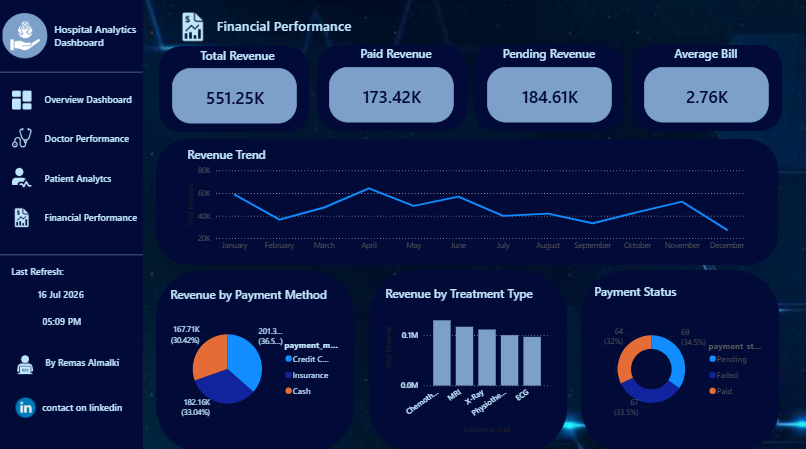

This screenshot's page, from the dashboard's own definition file:
{"tool":"powerbi","page":{"name":"Financial Performance","canvas":[1280,720],"ordinal":3},"visuals":[{"type":"shape","box":[0,0,226.8,720.6],"z":0},{"type":"shape","box":[251.7,74.1,238.3,136.7],"z":0,"group":"g4"},{"type":"actionButton","box":[66.2,133.9,159.8,50.4],"z":0,"group":"g1"},{"type":"cardVisual","fields":{"Data":["Measures1.Refresh Date"]},"box":[30,437.1,165.7,58.6],"z":0,"group":"g2"},{"type":"image","box":[20,562.5,39.2,38.3],"z":0,"group":"g3"},{"type":"cardVisual","fields":{"Data":["Measures1.Total Revenue"]},"box":[271.7,109.1,198.3,88.3],"z":1000,"group":"g4"},{"type":"group","id":"g1","title":"Group 1","box":[19.1,133.9,207.3,239.4],"z":1000},{"type":"image","box":[19.5,144.4,30.6,31.7],"z":1000,"group":"g1"},{"type":"textbox","box":[12.9,417.1,100,38.6],"z":1000,"group":"g2"},{"type":"textbox","box":[65.8,562.5,143.3,38.3],"z":1000,"group":"g3"},{"type":"image","box":[0,21.6,80.6,72],"z":2000},{"type":"shape","box":[1001.7,72.5,238.3,136.7],"z":2000,"group":"g4"},{"type":"image","box":[19.1,202.7,30.9,36.4],"z":2000,"group":"g1"},{"type":"cardVisual","fields":{"Data":["Measures1.Refresh Time"]},"box":[50,480,105.7,55.7],"z":2000,"group":"g2"},{"type":"actionButton","box":[20,629.2,186.7,40],"z":2000,"group":"g3"},{"type":"textbox","box":[80.6,31.7,145.4,86.4],"z":3000},{"type":"shape","box":[751.7,72.5,238.3,136.7],"z":3000,"group":"g4"},{"type":"actionButton","box":[66.4,195.4,160,50.9],"z":3000,"group":"g1"},{"type":"shape","box":[0,57.6,226.1,118.1],"z":4000},{"type":"shape","box":[501.7,72.5,238.3,136.7],"z":4000,"group":"g4"},{"type":"image","box":[19.3,266,30.7,36.7],"z":4000,"group":"g1"},{"type":"textbox","box":[312.8,70.4,143.3,51.7],"z":5000,"group":"g4"},{"type":"actionButton","box":[66,258.6,160,51.3],"z":5000,"group":"g1"},{"type":"group","id":"g2","title":"Group 2","box":[12.9,417.1,182.9,118.6],"z":5000},{"type":"cardVisual","fields":{"Data":["Measures1.Paid Revenue"]},"box":[521.7,107.5,198.3,88.3],"z":6000,"group":"g4"},{"type":"actionButton","box":[66,322,160,51.3],"z":6000,"group":"g1"},{"type":"shape","box":[0,348.3,226.7,116.7],"z":6000},{"type":"image","box":[19.3,329.3,30.7,36.7],"z":7000,"group":"g1"},{"type":"group","id":"g3","title":"Group 3","box":[20,562.5,189.2,106.7],"z":7000},{"type":"group","id":"g4","title":"Group 4","box":[251.7,67.9,988.3,142.9],"z":8000},{"type":"cardVisual","fields":{"Data":["Measures1.Pending Revenue"]},"box":[771.7,107.5,198.3,88.3],"z":8000,"group":"g4"},{"type":"textbox","box":[1025.3,67.7,190.1,40.3],"z":9000},{"type":"textbox","box":[531.1,68.4,193.3,46.7],"z":9000,"group":"g4"},{"type":"shape","box":[248.3,221.7,988.3,200],"z":9000,"group":"g5"},{"type":"image","box":[281.1,21.1,50,46.7],"z":10000},{"type":"cardVisual","fields":{"Data":["Measures1.Average Bill"]},"box":[1021.7,107.5,198.3,88.3],"z":10000,"group":"g4"},{"type":"lineChart","title":"Revenue Trend","fields":{"Category":["Dim_Calendar.Month Name"],"Y":["Measures1.Total Revenue"]},"box":[293.3,233.4,898.3,176.7],"z":10000,"group":"g5"},{"type":"textbox","box":[331.7,21.7,238.3,46.7],"z":11000},{"type":"textbox","box":[774.9,67.9,190.1,40.3],"z":11000,"group":"g4"},{"type":"group","id":"g5","title":"Group 5","box":[248.3,221.7,988.3,200],"z":12000},{"type":"shape","box":[248.3,430,315,290],"z":13000},{"type":"pieChart","title":"Revenue by Payment Method","fields":{"Category":["Fact_Billing.payment_method"],"Y":["Measures1.Total Revenue"]},"box":[265,455,281.7,238.3],"z":14000},{"type":"shape","box":[585,430,315,290],"z":15000},{"type":"clusteredColumnChart","title":"Revenue by Treatment Type","fields":{"Category":["Fact_Treatments.treatment_type"],"Y":["Measures1.Total Revenue"]},"box":[606.9,453.4,272.4,239.7],"z":16000},{"type":"shape","box":[921.7,430,315,290],"z":17000},{"type":"donutChart","title":"Payment Status","fields":{"Category":["Fact_Billing.payment_status"],"Y":["CountNonNull(Fact_Billing.bill_id)"]},"box":[938.3,450,281.7,248.3],"z":18000}]}

Visuals, with their boxes in screenshot pixels (x1, y1, x2, y2), scaled from the page's 1280x720 canvas onto the 806x449 screenshot:
shape: {"x1": 0, "y1": 0, "x2": 143, "y2": 448}
shape: {"x1": 158, "y1": 46, "x2": 309, "y2": 131}
actionButton: {"x1": 42, "y1": 84, "x2": 142, "y2": 115}
cardVisual - Measures1.Refresh Date: {"x1": 19, "y1": 273, "x2": 123, "y2": 309}
image: {"x1": 13, "y1": 351, "x2": 37, "y2": 375}
cardVisual - Measures1.Total Revenue: {"x1": 171, "y1": 68, "x2": 296, "y2": 123}
"Group 1" group: {"x1": 12, "y1": 84, "x2": 143, "y2": 233}
image: {"x1": 12, "y1": 90, "x2": 32, "y2": 110}
textbox: {"x1": 8, "y1": 260, "x2": 71, "y2": 284}
textbox: {"x1": 41, "y1": 351, "x2": 132, "y2": 375}
image: {"x1": 0, "y1": 13, "x2": 51, "y2": 58}
shape: {"x1": 631, "y1": 45, "x2": 781, "y2": 130}
image: {"x1": 12, "y1": 126, "x2": 31, "y2": 149}
cardVisual - Measures1.Refresh Time: {"x1": 31, "y1": 299, "x2": 98, "y2": 334}
actionButton: {"x1": 13, "y1": 392, "x2": 130, "y2": 417}
textbox: {"x1": 51, "y1": 20, "x2": 142, "y2": 74}
shape: {"x1": 473, "y1": 45, "x2": 623, "y2": 130}
actionButton: {"x1": 42, "y1": 122, "x2": 143, "y2": 154}
shape: {"x1": 0, "y1": 36, "x2": 142, "y2": 110}
shape: {"x1": 316, "y1": 45, "x2": 466, "y2": 130}
image: {"x1": 12, "y1": 166, "x2": 31, "y2": 189}
textbox: {"x1": 197, "y1": 44, "x2": 287, "y2": 76}
actionButton: {"x1": 42, "y1": 161, "x2": 142, "y2": 193}
"Group 2" group: {"x1": 8, "y1": 260, "x2": 123, "y2": 334}
cardVisual - Measures1.Paid Revenue: {"x1": 329, "y1": 67, "x2": 453, "y2": 122}
actionButton: {"x1": 42, "y1": 201, "x2": 142, "y2": 233}
shape: {"x1": 0, "y1": 217, "x2": 143, "y2": 290}
image: {"x1": 12, "y1": 205, "x2": 31, "y2": 228}
"Group 3" group: {"x1": 13, "y1": 351, "x2": 132, "y2": 417}
"Group 4" group: {"x1": 158, "y1": 42, "x2": 781, "y2": 131}
cardVisual - Measures1.Pending Revenue: {"x1": 486, "y1": 67, "x2": 611, "y2": 122}
textbox: {"x1": 646, "y1": 42, "x2": 765, "y2": 67}
textbox: {"x1": 334, "y1": 43, "x2": 456, "y2": 72}
shape: {"x1": 156, "y1": 138, "x2": 779, "y2": 263}
image: {"x1": 177, "y1": 13, "x2": 208, "y2": 42}
cardVisual - Measures1.Average Bill: {"x1": 643, "y1": 67, "x2": 768, "y2": 122}
"Revenue Trend" lineChart: {"x1": 185, "y1": 146, "x2": 750, "y2": 256}
textbox: {"x1": 209, "y1": 14, "x2": 359, "y2": 43}
textbox: {"x1": 488, "y1": 42, "x2": 608, "y2": 67}
"Group 5" group: {"x1": 156, "y1": 138, "x2": 779, "y2": 263}
shape: {"x1": 156, "y1": 268, "x2": 355, "y2": 448}
"Revenue by Payment Method" pieChart: {"x1": 167, "y1": 284, "x2": 344, "y2": 432}
shape: {"x1": 368, "y1": 268, "x2": 567, "y2": 448}
"Revenue by Treatment Type" clusteredColumnChart: {"x1": 382, "y1": 283, "x2": 554, "y2": 432}
shape: {"x1": 580, "y1": 268, "x2": 779, "y2": 448}
"Payment Status" donutChart: {"x1": 591, "y1": 281, "x2": 768, "y2": 435}
